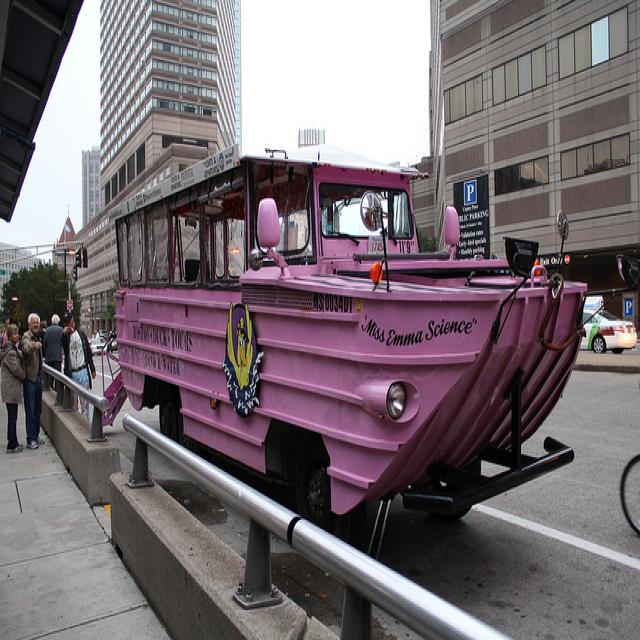Vehicle: (580, 308, 637, 353), (90, 338, 108, 356), (108, 333, 117, 353), (99, 330, 108, 340)
